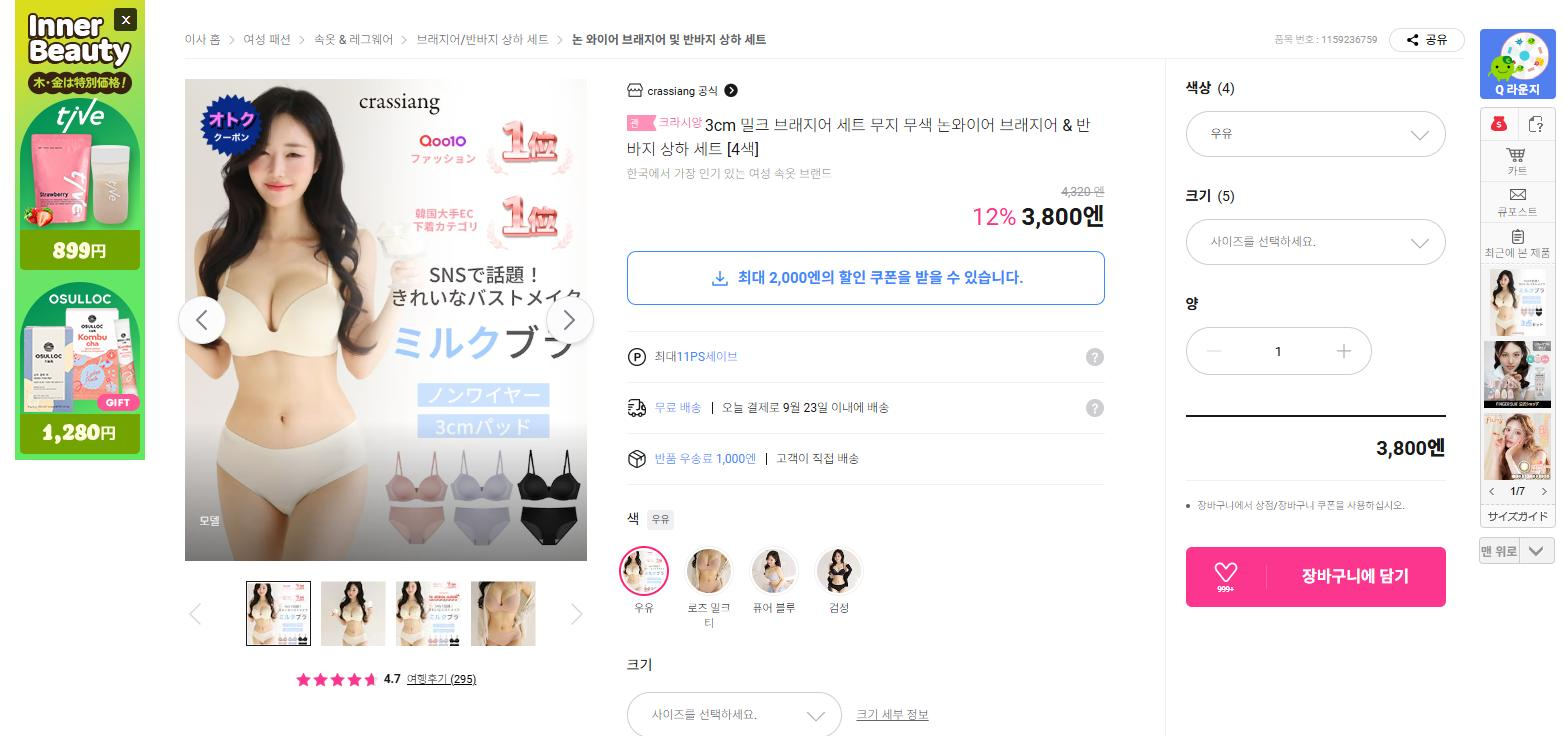button: (619, 248, 1109, 303), (1192, 552, 1446, 610), (1197, 324, 1359, 372), (469, 582, 547, 654), (243, 580, 316, 647), (392, 583, 464, 648), (1484, 420, 1551, 486), (684, 546, 738, 624), (322, 581, 381, 649), (1488, 36, 1558, 92), (1490, 273, 1549, 339), (617, 547, 670, 613), (1492, 351, 1550, 408), (820, 544, 864, 616), (752, 548, 802, 608), (1486, 190, 1548, 218), (1488, 232, 1549, 260), (648, 81, 747, 98), (1490, 150, 1546, 180), (1488, 541, 1551, 567), (1407, 29, 1464, 52), (854, 712, 941, 724), (1486, 108, 1516, 136), (1520, 112, 1548, 134)
checkbox: (1186, 218, 1443, 257), (1186, 114, 1463, 150), (622, 693, 836, 731)
popup: (8, 3, 146, 450)
